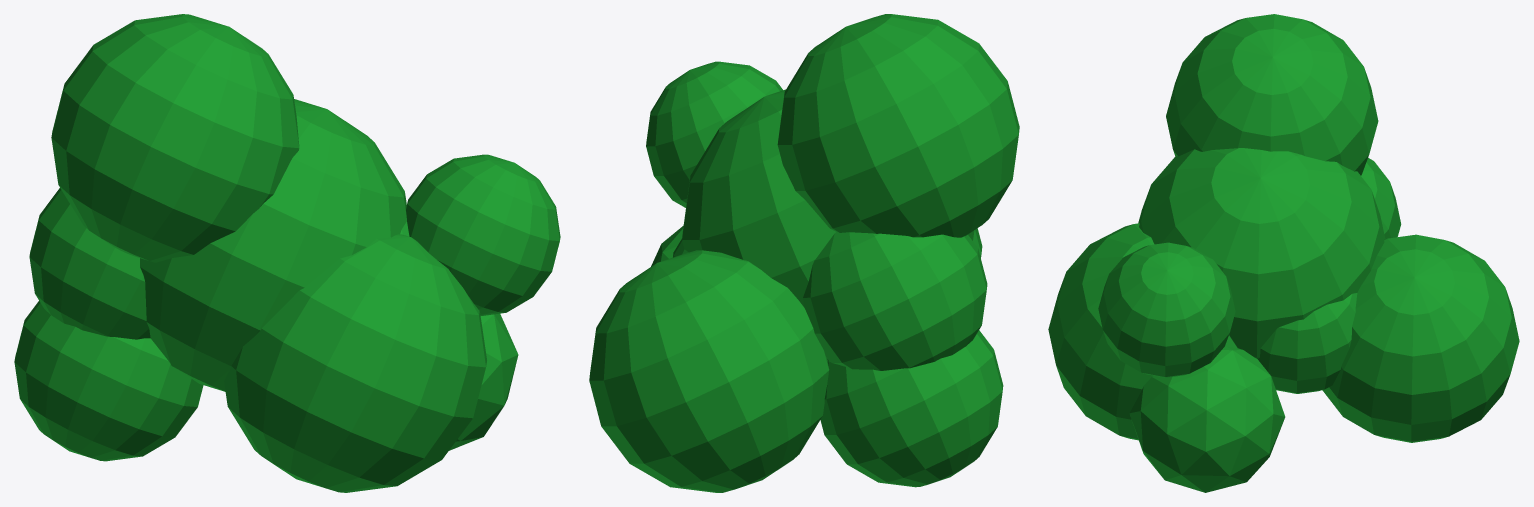
Rendered from low_poly_forest_pack_.free_3d_models.glb.
The picture shows the model from 3 angles, left to right: view 1: azimuth 30°, elevation 25°; view 2: azimuth 150°, elevation 25°; view 3: azimuth 270°, elevation 25°; orthographic projection. The views are drawn at different scales.
Parts seen in each view (by area): view 1: Sphere.005_0; view 2: Sphere.005_0; view 3: Sphere.005_0.
Part boxes in pixels (<box>): Sphere.005_0: <box>14,14,560,492</box>; Sphere.005_0: <box>589,14,1019,492</box>; Sphere.005_0: <box>1048,14,1519,492</box>.
Size of what is drawn, in the model's own units: 2.89 by 2.81 by 3.22.
